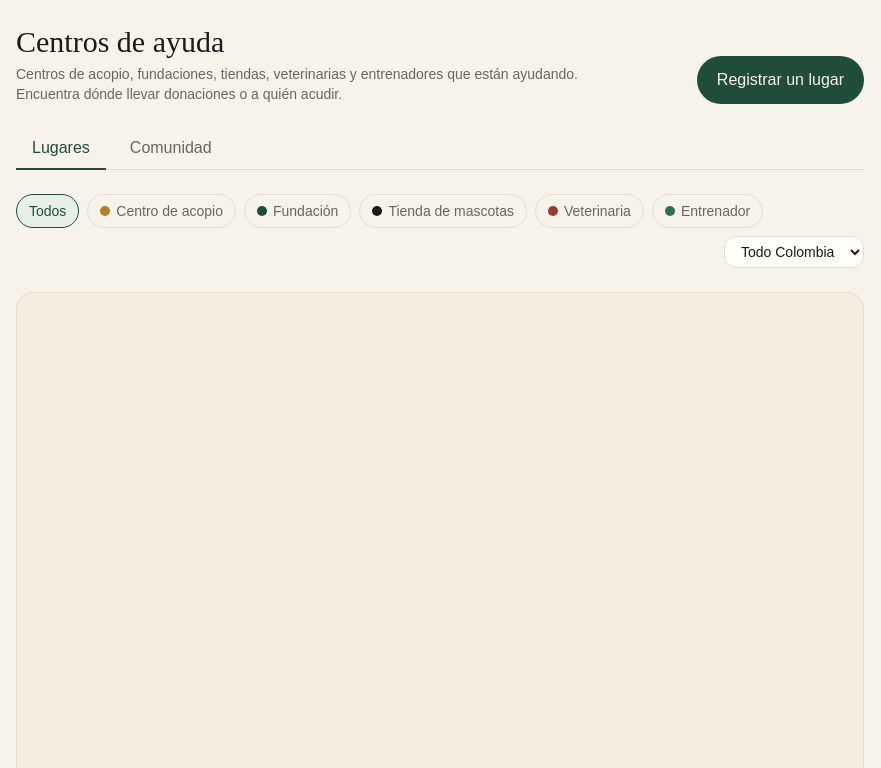
it: RedDeApoyo › el chip Entrenador filtra y su tarjeta muestra la etiqueta (feature 47)
The image size is (881, 768).
# El chip existe (filtro y leyenda a la vez) y re-consulta con el tipo.
Click the button "Entrenador" at (708, 211), box [652, 194, 763, 228]
(page scrolled)
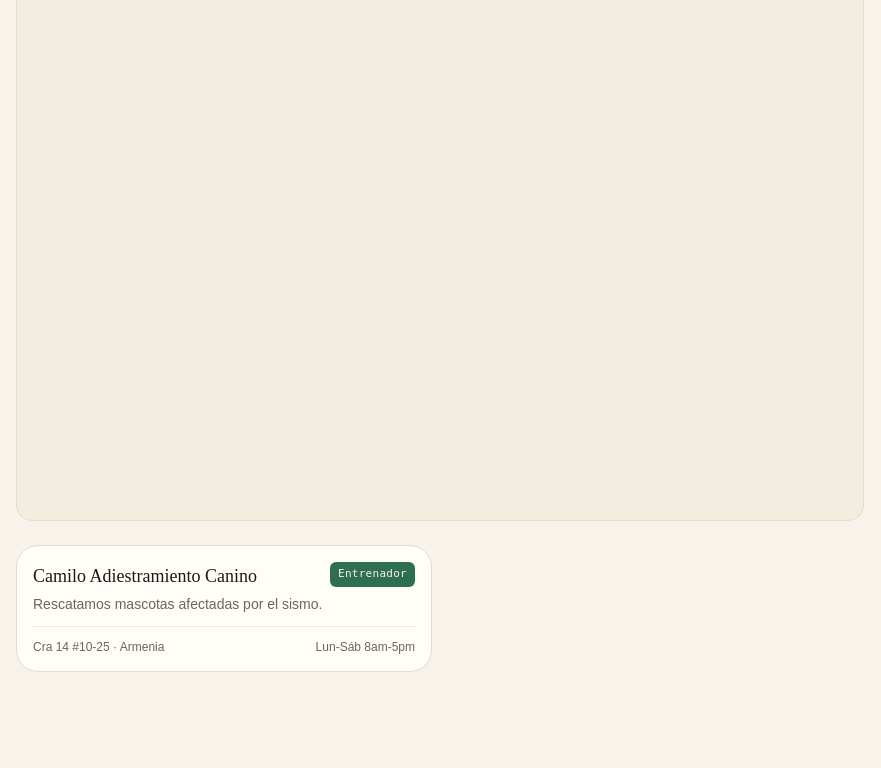
Result: the heading "Camilo Adiestramiento Canino" is shown at [33, 562, 257, 590]
